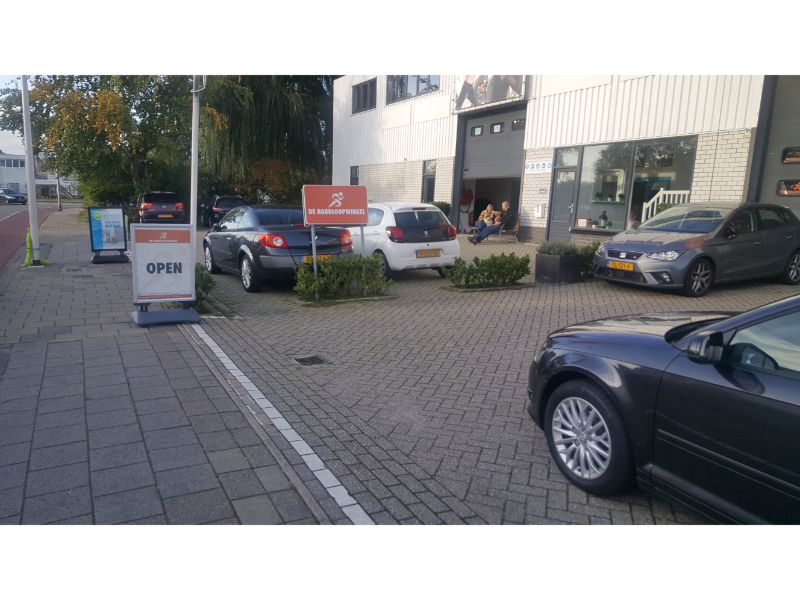kenteken: (413, 249, 441, 257)
